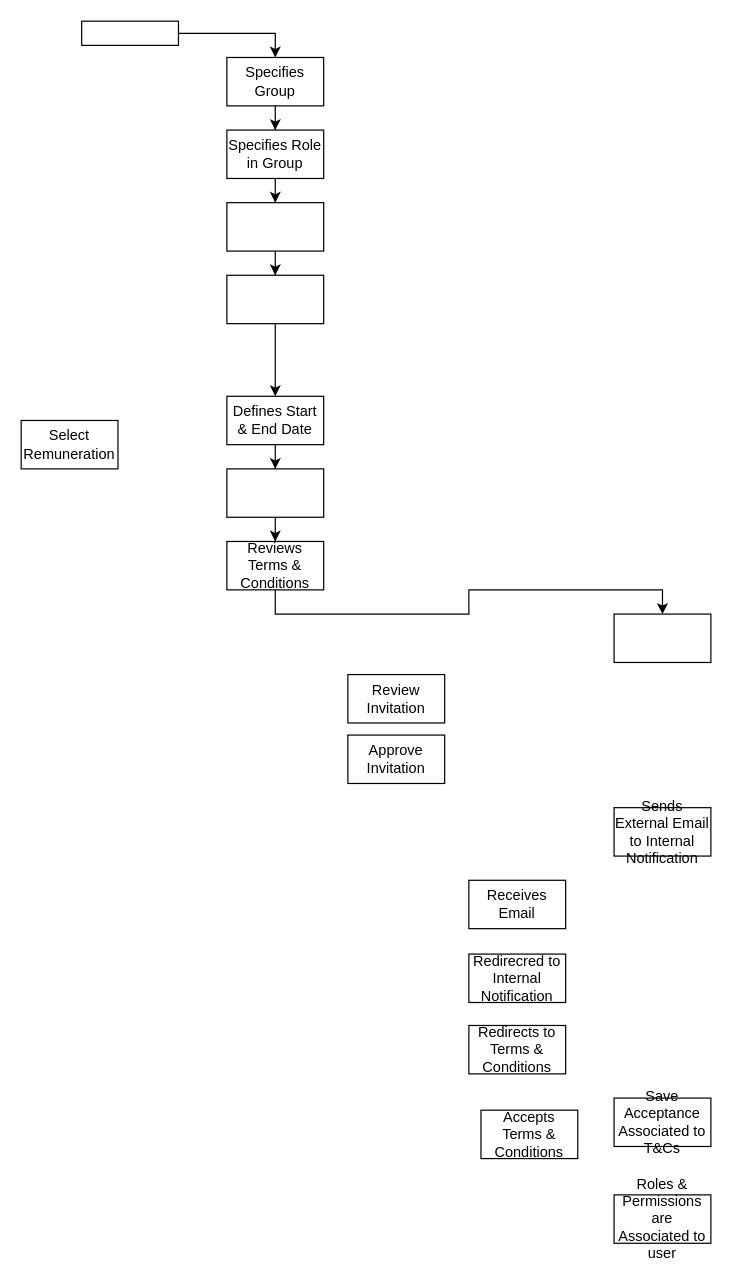
Some shapes in this 732 by 1284 pixel diagram are drawn without their labels. Each missing label, with the centre of its shape:
Adds Permissions: [275,299]
Develops Notification: [662,637]
Develops Terms & Conditions: [275,492]
Excludes Permissions: [275,226]
Start: [129,32]
